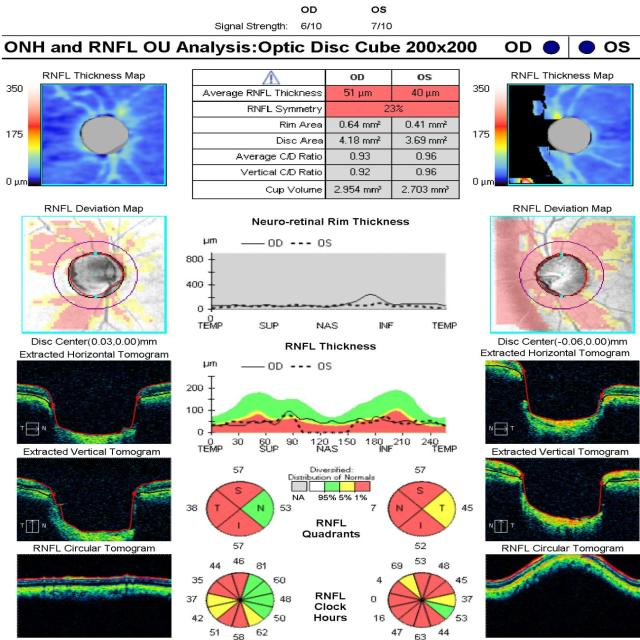rim area: (203, 118, 455, 133)
rim area-od: (327, 116, 387, 131)
rim area-os: (399, 118, 454, 131)
vertical cd ratio: (208, 163, 448, 180)
vertical cd ratio-od: (334, 163, 386, 180)
vertical cd ratio-os: (402, 164, 448, 181)
